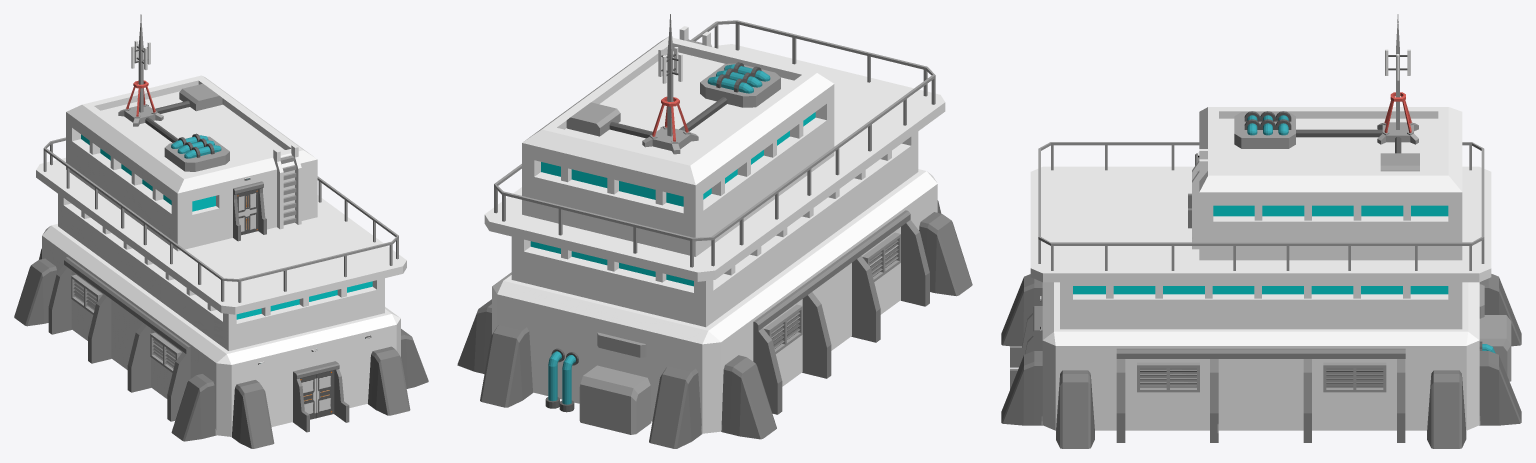
The model's file is officebldg.fbx.
3 views of the same model, side by side, from view 1: azimuth 30°, elevation 25°; view 2: azimuth 150°, elevation 25°; view 3: azimuth 270°, elevation 25° (orthographic). The views are drawn at different scales.
Visible parts, largest first — view 1: Office_building:Mesh; view 2: Office_building:Mesh; view 3: Office_building:Mesh.
Boxes of the visible parts, x1,y1,x2,y2 form: Office_building:Mesh: (14,14,428,448); Office_building:Mesh: (457,14,972,448); Office_building:Mesh: (1001,14,1521,448).
Size of the model in its own units: 4.08 by 4.74 by 6.33.
3 materials, 2 textured.
